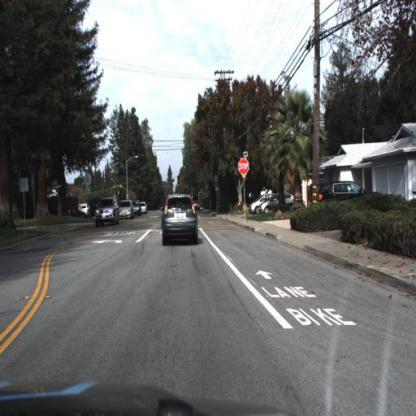car: (309, 171, 384, 221), (158, 184, 204, 254), (316, 178, 373, 206), (257, 187, 302, 219), (94, 192, 121, 232), (244, 189, 258, 224), (120, 195, 134, 221)
